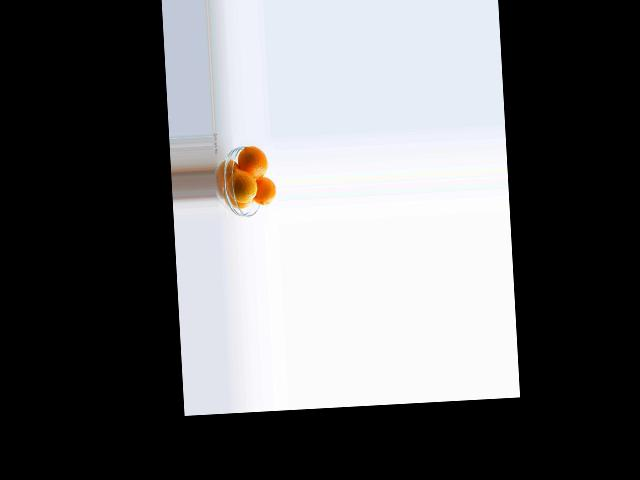lemon: (241, 143, 268, 181)
